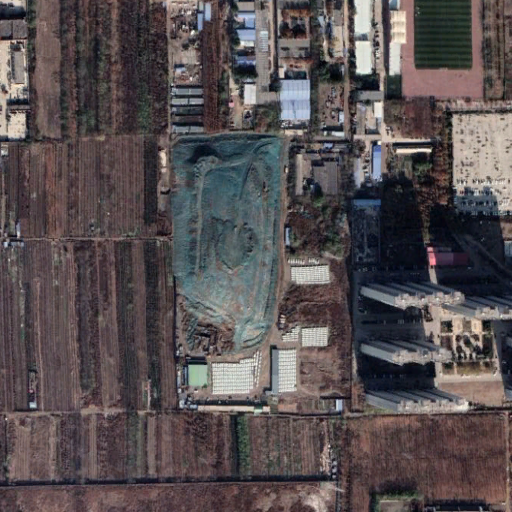cw: (171, 136, 288, 365)
